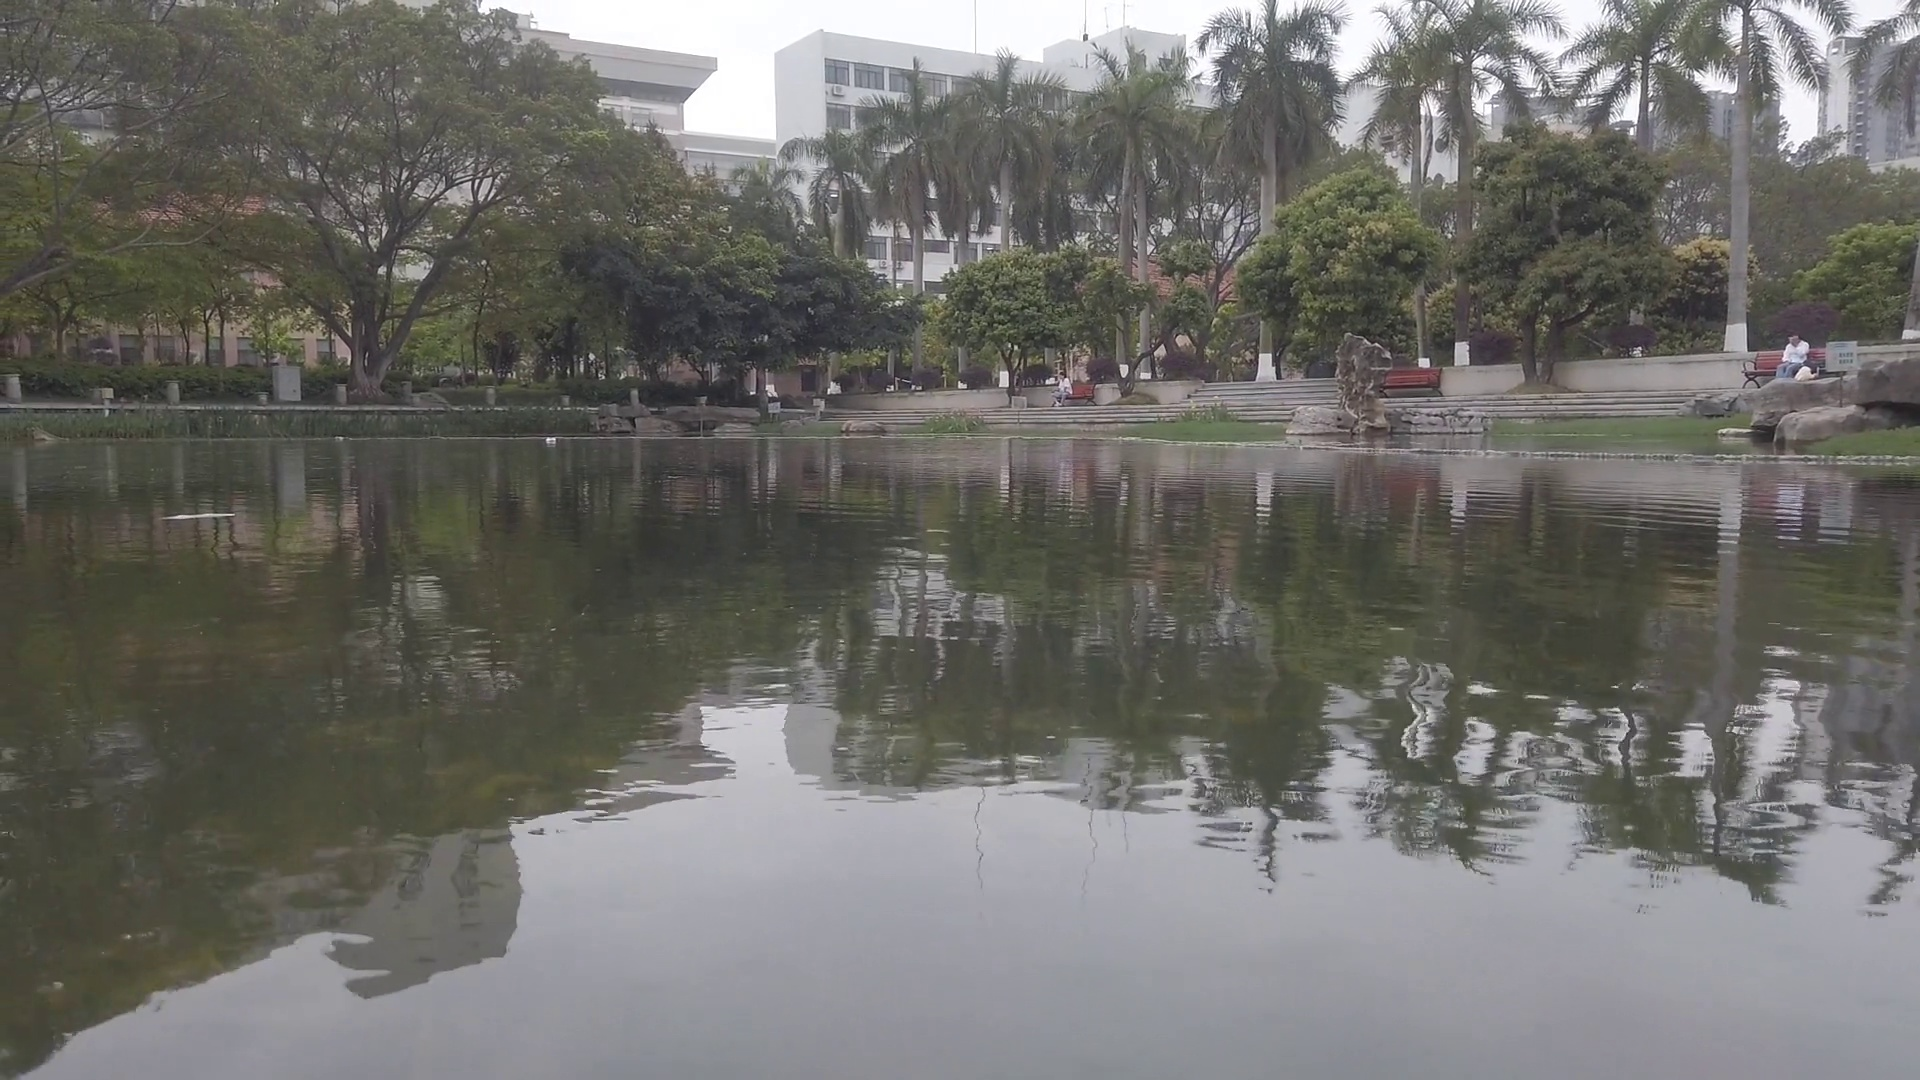bottle: (545, 436, 558, 444)
paper: (158, 508, 231, 524)
